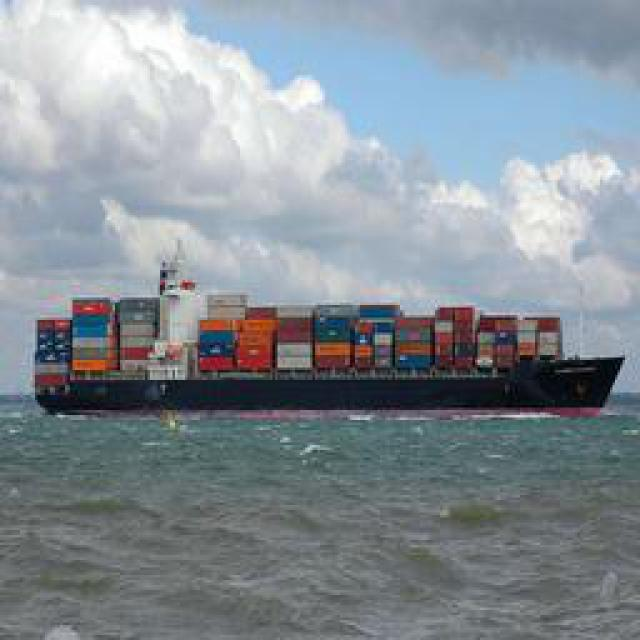Ship: (27, 261, 630, 424)
